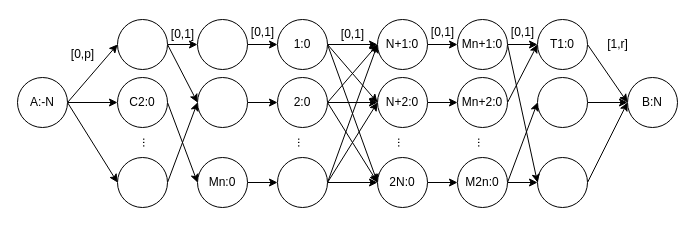
Image size: 695x225. Some labels were removed from this diagram. Each missing label, with the box of its shape:
C1:0: (116, 18, 168, 70)
Cm:0: (116, 156, 168, 208)
M1:0: (196, 18, 248, 70)
M2:0: (196, 76, 248, 128)
N:0: (276, 156, 328, 208)
T2:0: (536, 76, 588, 128)
Tk:0: (536, 156, 588, 208)
